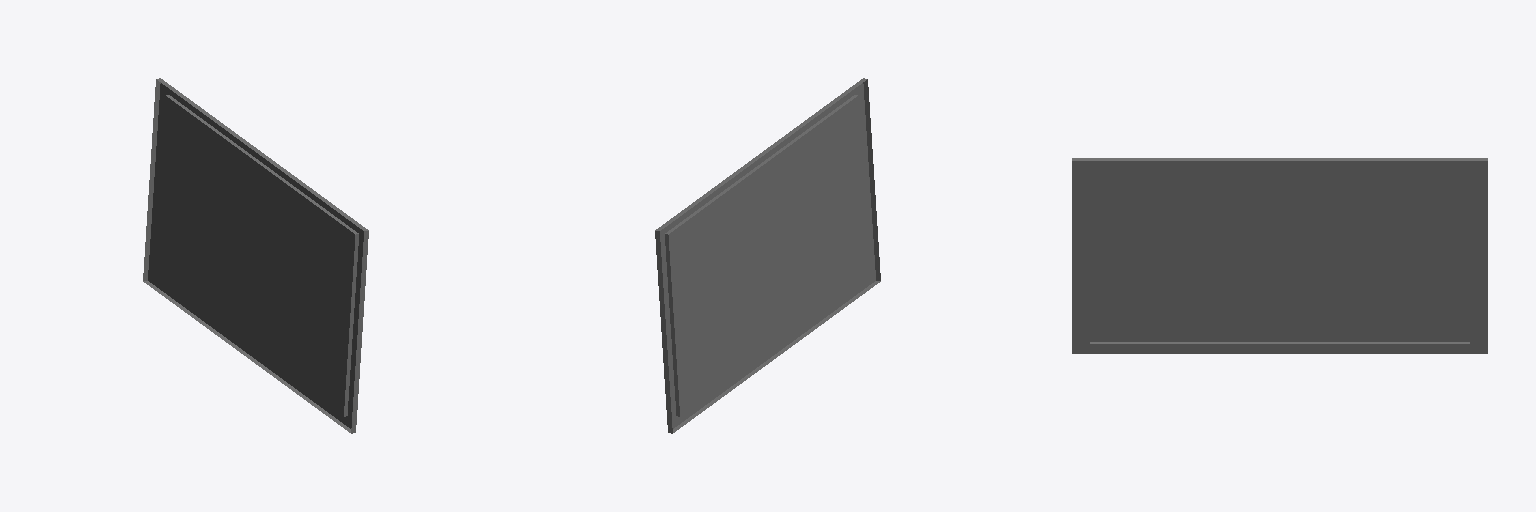
The model's file is WhiteBoard02.obj.
3 renders of one model, left to right at view 1: azimuth 30°, elevation 25°; view 2: azimuth 150°, elevation 25°; view 3: azimuth 270°, elevation 25°, orthographic.
Parts seen in each view (by area): view 1: pPlane1 polySurface33, polySurface32 pPlane1; view 2: pPlane1 polySurface33, polySurface32 pPlane1; view 3: pPlane1 polySurface33, polySurface32 pPlane1.
Part boxes in pixels (x1,y1,x2,y2): pPlane1 polySurface33: (154,96,354,416); polySurface32 pPlane1: (143,78,368,433); pPlane1 polySurface33: (669,96,869,416); polySurface32 pPlane1: (655,78,880,433); pPlane1 polySurface33: (1090,171,1469,341); polySurface32 pPlane1: (1072,158,1487,353).
Size of the model in its own units: 0.5628 by 5.98 by 11.3.